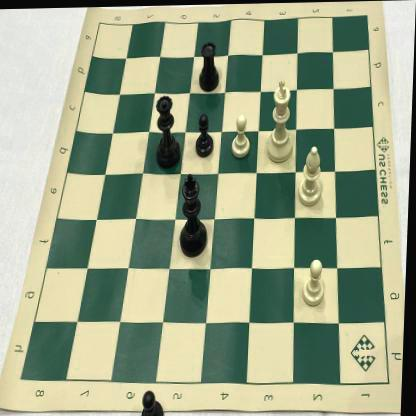black-king: (180, 168, 212, 260)
black-pawn: (194, 113, 217, 158)
black-queen: (156, 88, 184, 169)
black-rook: (198, 36, 224, 94)
white-bishop: (298, 144, 328, 208)
white-king: (266, 76, 298, 166)
white-pawn: (302, 257, 331, 310), (232, 112, 254, 160)
